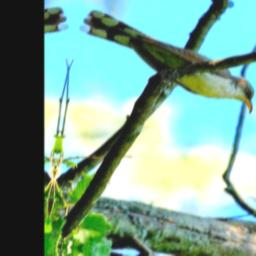Cuckoo: (71, 10, 256, 115)
